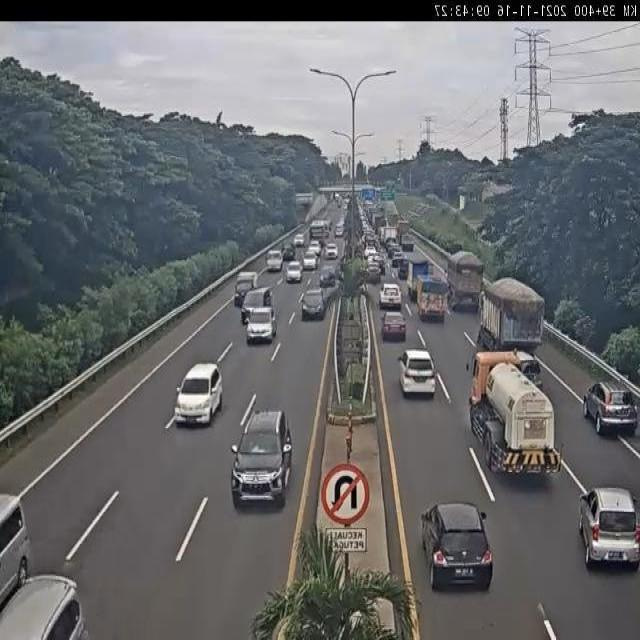Car: (421, 502, 493, 590), (230, 407, 293, 506), (0, 574, 90, 637), (577, 487, 640, 570), (582, 380, 638, 436), (174, 362, 223, 425), (398, 348, 437, 398), (244, 303, 278, 345), (234, 270, 259, 308), (300, 288, 326, 321), (381, 312, 407, 342), (378, 283, 402, 310), (319, 266, 337, 288), (266, 249, 283, 272), (365, 260, 381, 284), (285, 261, 302, 283), (302, 252, 318, 271), (396, 258, 410, 278), (282, 244, 296, 261), (308, 240, 322, 256), (325, 243, 338, 259), (392, 250, 404, 265), (385, 236, 396, 252), (364, 246, 376, 260), (294, 233, 304, 248), (333, 196, 343, 208), (335, 225, 344, 238)
Truck: (470, 355, 562, 476), (477, 276, 545, 353), (446, 250, 483, 311), (414, 275, 450, 323), (373, 213, 386, 234), (338, 254, 350, 276), (400, 235, 414, 251), (364, 234, 376, 249), (315, 234, 327, 249), (364, 200, 374, 216), (373, 202, 384, 216), (325, 191, 334, 202), (342, 193, 350, 204)
